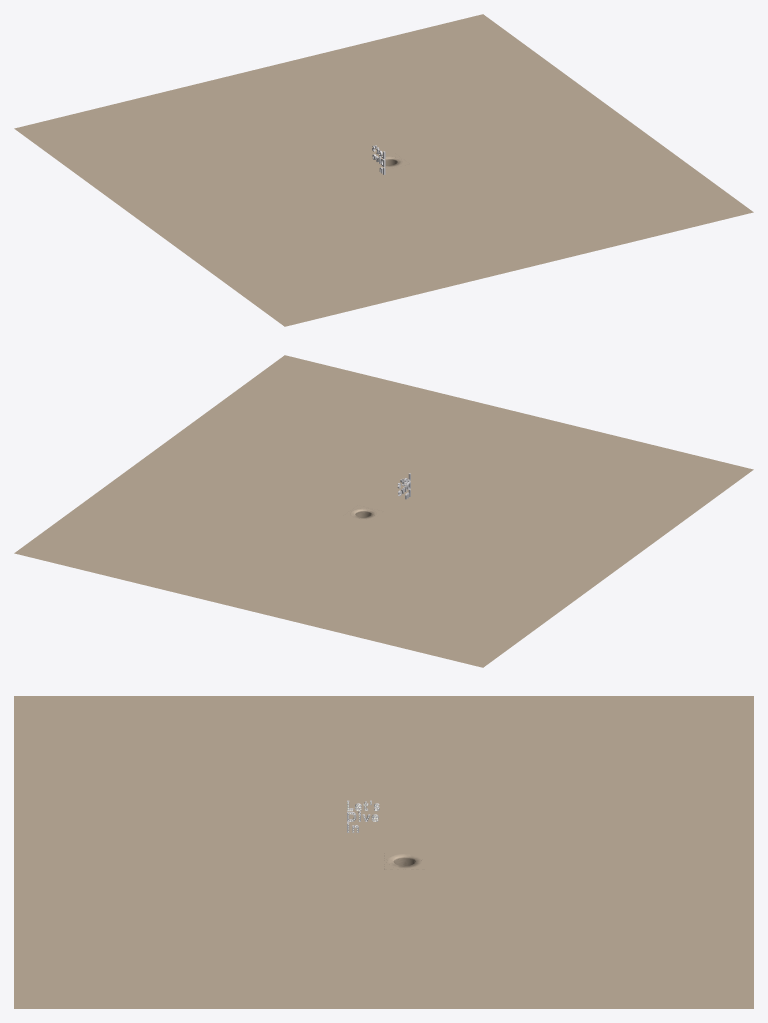
The model's file is butthole.glb.
The picture shows the model from 3 angles, top to bottom: view 1: azimuth 30°, elevation 25°; view 2: azimuth 150°, elevation 25°; view 3: azimuth 270°, elevation 25°; orthographic projection. The views are drawn at different scales.
Parts seen in each view (by area): view 1: Grid; view 2: Grid; view 3: Grid, Grid.001.
Boxes of the visible parts, x1,y1,x2,y2 form: Grid: [14, 14, 753, 326]; Grid: [14, 355, 753, 667]; Grid: [14, 696, 753, 1008]; Grid.001: [384, 852, 424, 869].
Bounding box in the file's own units: 55.24 × 10.78 × 55.24.
8 materials, 2 textured.
